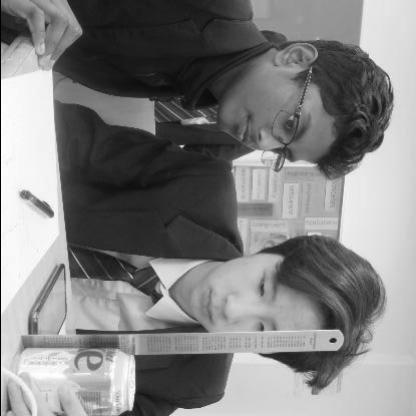alumunium_can: (8, 345, 138, 416)
